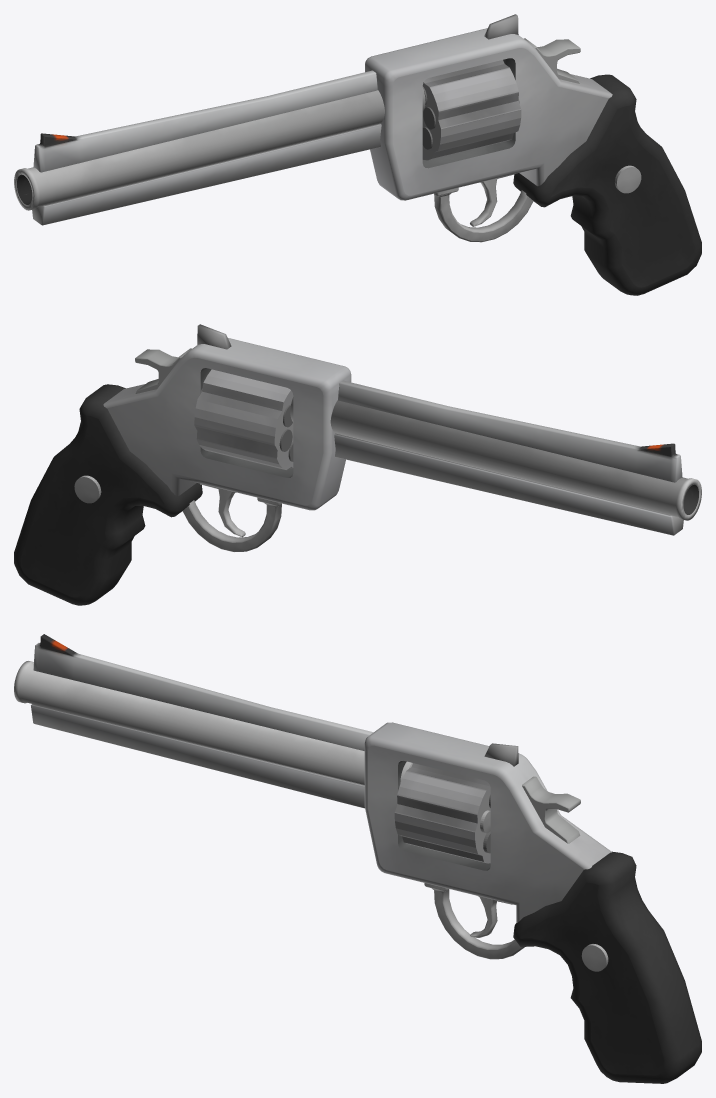
File: pistol3.fbx
3 views of the same model, one above another, from view 1: azimuth 30°, elevation 25°; view 2: azimuth 150°, elevation 25°; view 3: azimuth 330°, elevation 25° (orthographic).
Parts seen in each view (by area): view 1: rev, rev.001, trigger; view 2: rev, rev.001, trigger; view 3: rev, rev.001.
Boxes of the visible parts, box(x1,y1,x2,y2) form: rev: box(14, 14, 701, 295); rev.001: box(422, 60, 521, 160); trigger: box(470, 174, 514, 226); rev: box(14, 324, 701, 605); rev.001: box(194, 369, 293, 469); trigger: box(200, 483, 245, 537); rev: box(14, 634, 701, 1083); rev.001: box(394, 763, 490, 863).
Size of the model in its own units: 29.8 by 12.8 by 3.6.
Materials: 1 (1 with a texture image).
